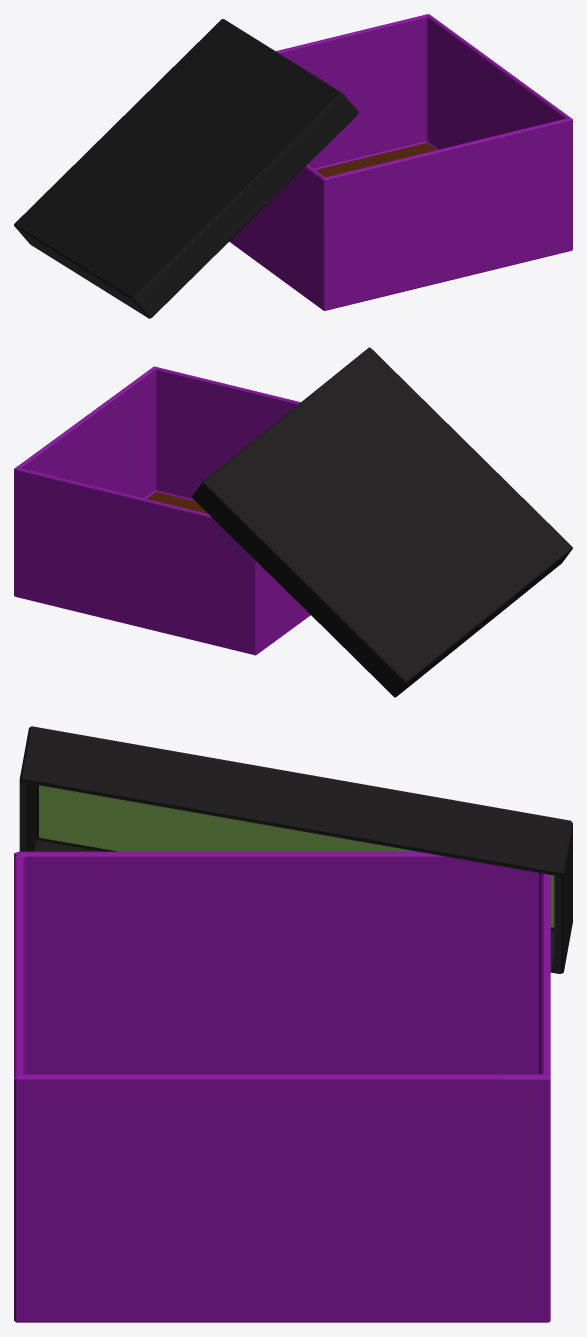
The model's file is SM_PionBox.fbx.
3 renders of one model, top to bottom at view 1: azimuth 30°, elevation 25°; view 2: azimuth 150°, elevation 25°; view 3: azimuth 270°, elevation 25°, orthographic. The views are drawn at different scales.
Parts seen in each view (by area): view 1: polySurface8, polySurface7; view 2: polySurface7, polySurface8; view 3: polySurface8, polySurface7.
Boxes of the visible parts, x1,y1,x2,y2 form: polySurface8: [229, 14, 572, 310]; polySurface7: [14, 19, 358, 318]; polySurface7: [192, 347, 572, 697]; polySurface8: [14, 366, 310, 655]; polySurface8: [14, 851, 550, 1322]; polySurface7: [19, 726, 572, 973].
Bounding box in the file's own units: 57.85 × 27.22 × 34.52.
